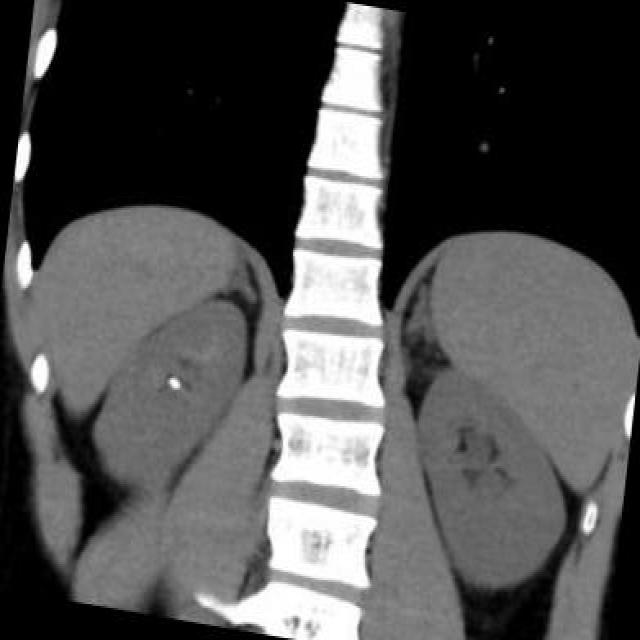Tas_Var: (164, 369, 186, 393)
